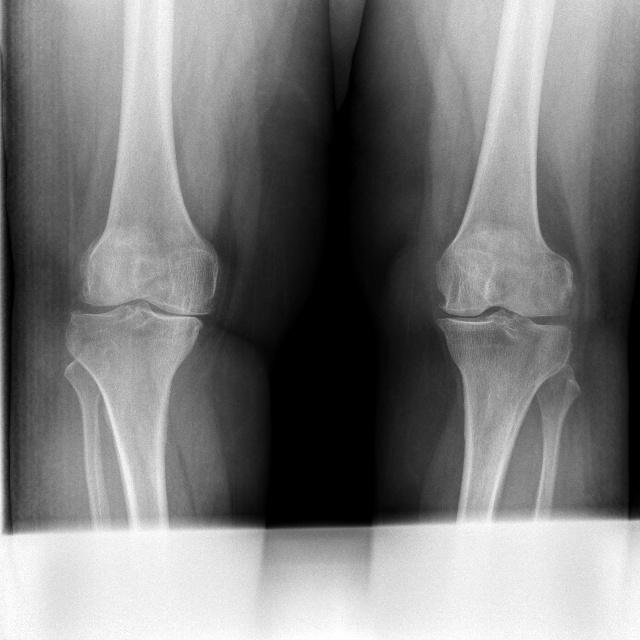Knee: (428, 229, 580, 378), (60, 243, 219, 373)
